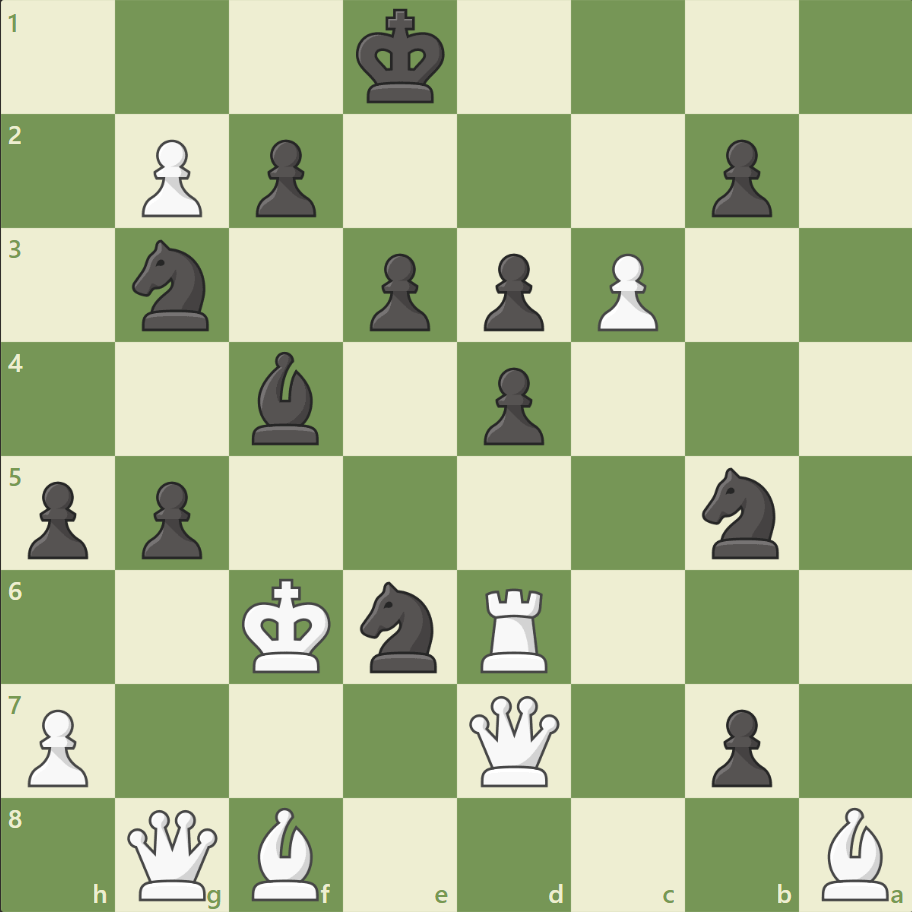B: (812, 801, 896, 904), (244, 801, 328, 904)
K: (238, 571, 338, 679)
P: (20, 700, 95, 791), (133, 132, 208, 223), (588, 246, 662, 337)
Q: (124, 804, 223, 903), (464, 690, 563, 789)
R: (473, 579, 556, 676)
b: (244, 347, 328, 449)
k: (351, 4, 451, 112)
n: (124, 234, 222, 337), (351, 575, 449, 677), (692, 461, 789, 564)
p: (701, 700, 776, 791), (133, 473, 208, 564), (20, 473, 95, 564), (474, 359, 549, 450), (474, 246, 549, 337), (701, 132, 776, 223), (247, 132, 322, 223), (361, 246, 435, 337)
